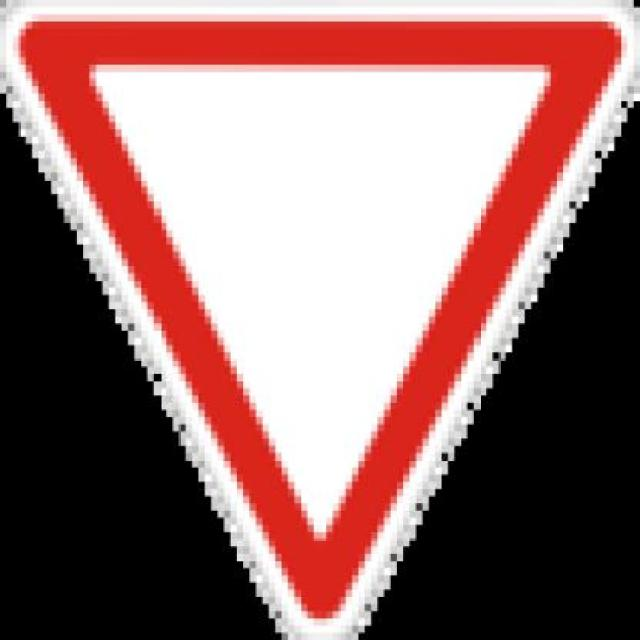Give Way: (0, 0, 635, 634)
